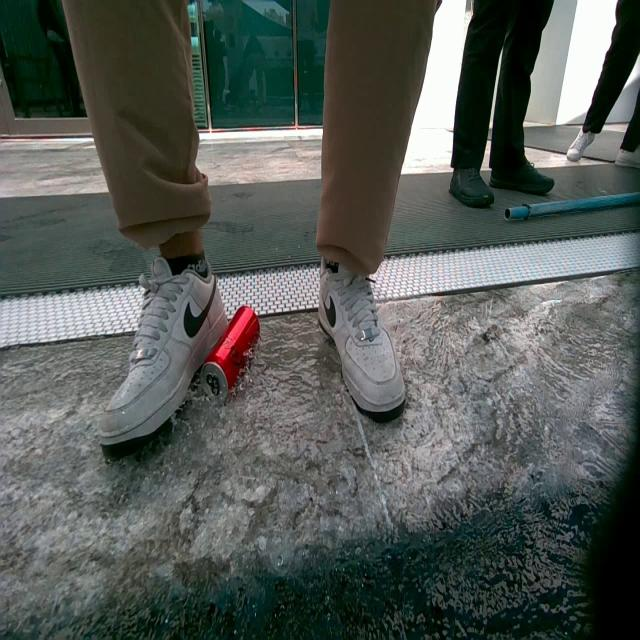Cans: (200, 304, 260, 413)
